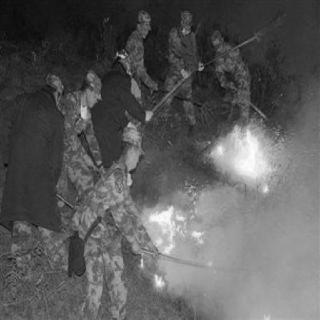Fire: (212, 119, 270, 184)
